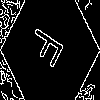F: (25, 25, 72, 74)
